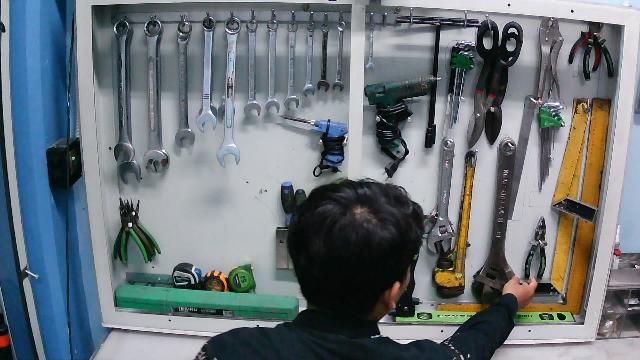tang_kombinasi: (520, 216, 550, 281)
